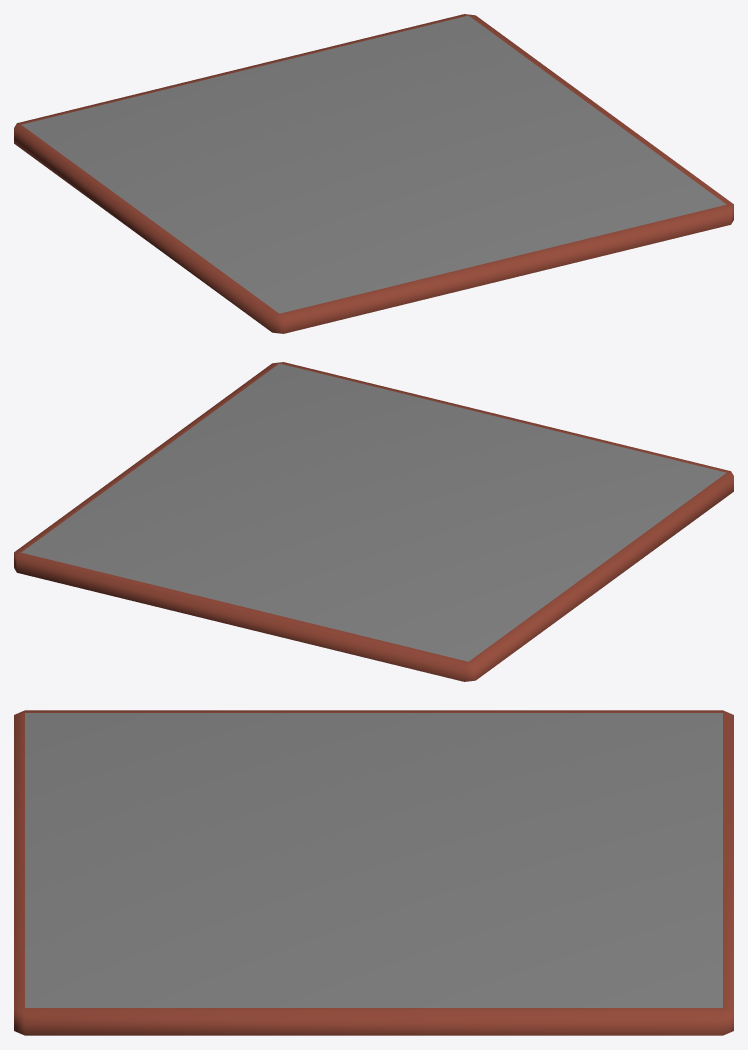
File: ChessBoard.FBX
3 renders of one model, top to bottom at view 1: azimuth 30°, elevation 25°; view 2: azimuth 150°, elevation 25°; view 3: azimuth 270°, elevation 25°, orthographic. The views are drawn at different scales.
Parts seen in each view (by area): view 1: Board; view 2: Board; view 3: Board.
Boxes of the visible parts, box(x1,y1,x2,y2) form: Board: box(14, 14, 733, 333); Board: box(14, 362, 733, 681); Board: box(14, 710, 733, 1035).
Bounding box in the file's own units: 927 × 927 × 32.89.
